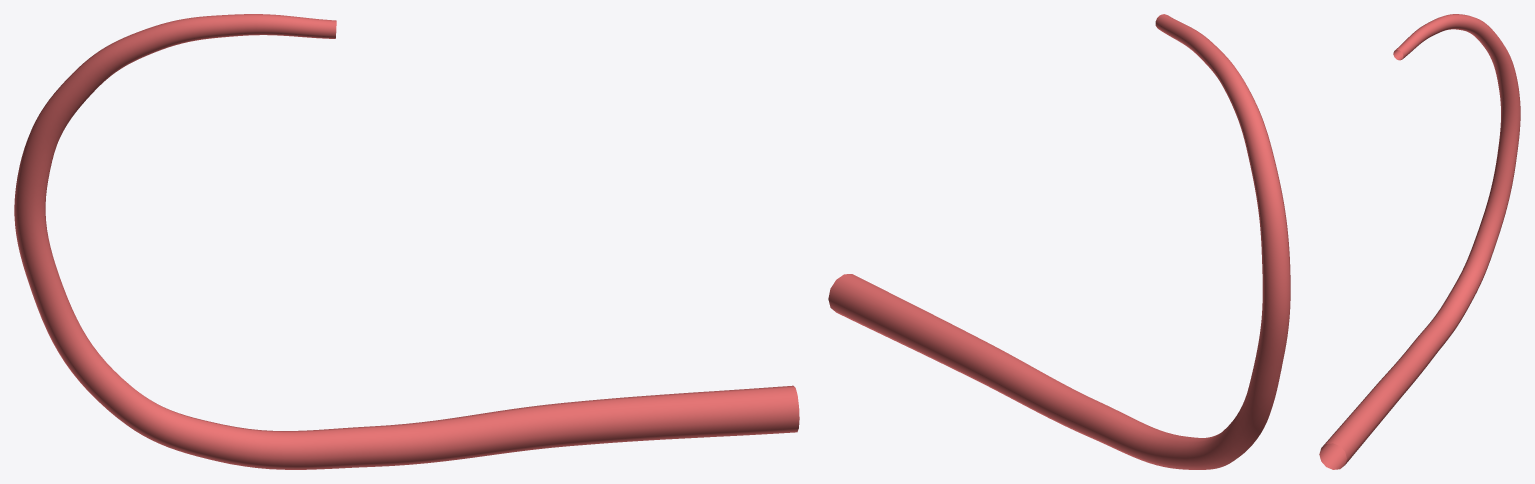
Rendered from Colic_branch_ileocolic_artery.glb.
3 renders of one model, left to right at view 1: azimuth 30°, elevation 25°; view 2: azimuth 150°, elevation 25°; view 3: azimuth 270°, elevation 25°, orthographic. The views are drawn at different scales.
Parts seen in each view (by area): view 1: Colic_branch_of_ileocolic_artery_BezierCurve.421; view 2: Colic_branch_of_ileocolic_artery_BezierCurve.421; view 3: Colic_branch_of_ileocolic_artery_BezierCurve.421.
Boxes of the visible parts, x1=… form: Colic_branch_of_ileocolic_artery_BezierCurve.421: x1=14, y1=14, x2=799, y2=469; Colic_branch_of_ileocolic_artery_BezierCurve.421: x1=828, y1=14, x2=1290, y2=469; Colic_branch_of_ileocolic_artery_BezierCurve.421: x1=1319, y1=14, x2=1520, y2=469.
Bounding box in the file's own units: 0.0475 × 0.0337 × 0.0205.
